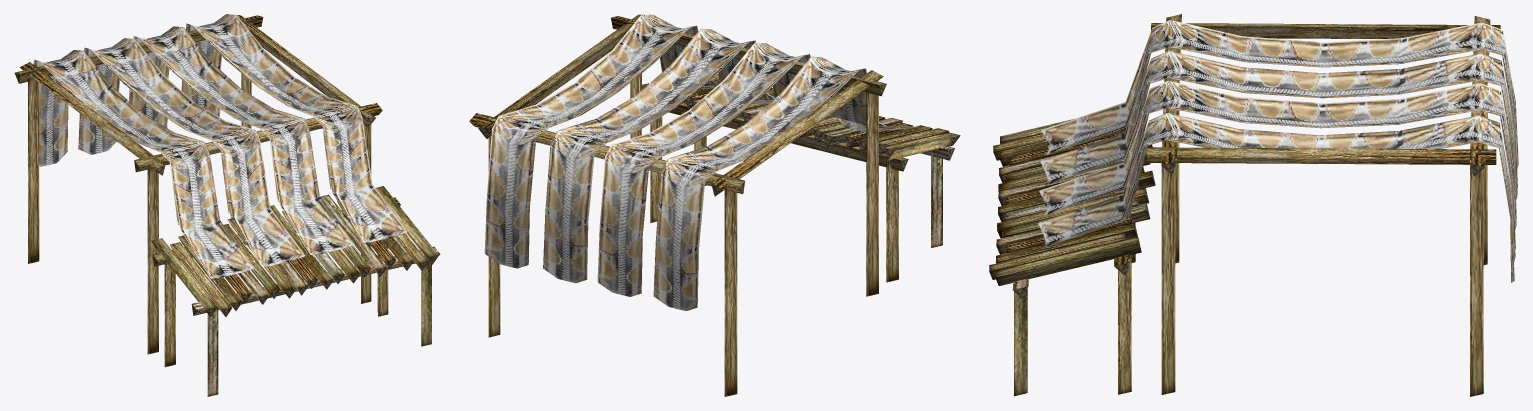
The model's file is iber_market.dae.
3 renders of one model, left to right at view 1: azimuth 30°, elevation 25°; view 2: azimuth 150°, elevation 25°; view 3: azimuth 270°, elevation 25°, orthographic. The views are drawn at different scales.
Parts seen in each view (by area): view 1: Object05-Pivot; view 2: Object05-Pivot; view 3: Object05-Pivot.
Part boxes in pixels (x1,y1,x2,y2): Object05-Pivot: [14, 14, 440, 396]; Object05-Pivot: [469, 14, 960, 396]; Object05-Pivot: [989, 14, 1518, 396].
Size of the model in its own units: 11.5 by 17.1 by 8.83.
